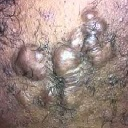Keloids: (53, 44, 86, 107), (16, 43, 48, 78), (72, 11, 108, 41)
